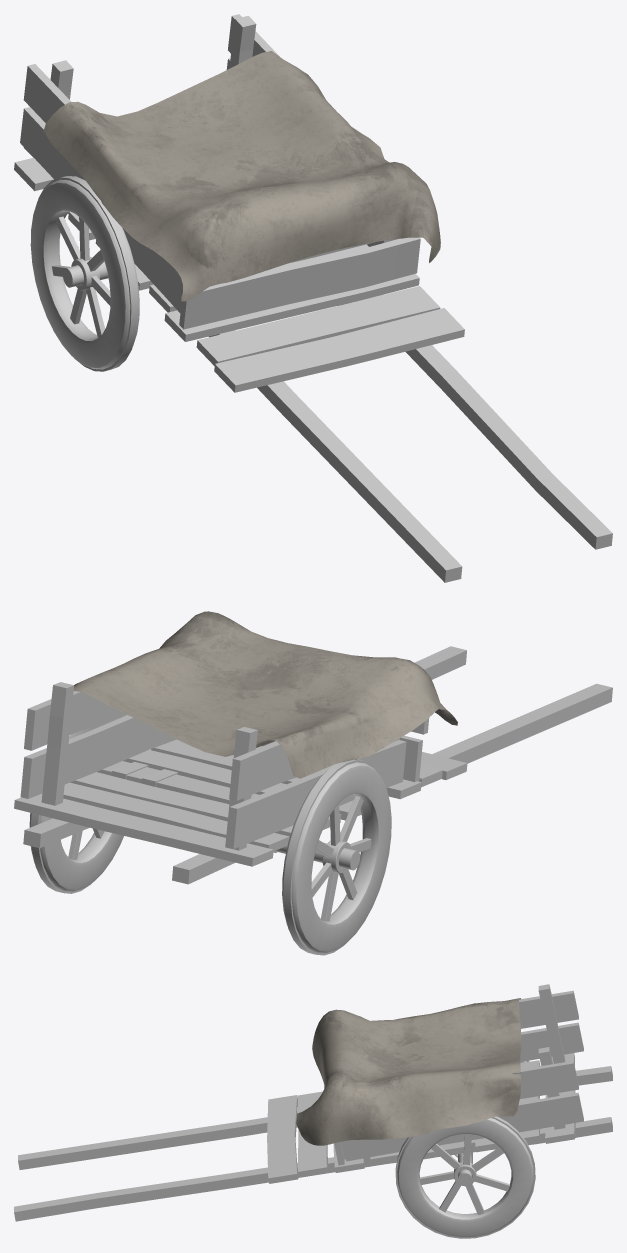
Rendered from SM_Sidecar2S.fbx.
3 views of the same model, one above another, from view 1: azimuth 30°, elevation 25°; view 2: azimuth 150°, elevation 25°; view 3: azimuth 270°, elevation 25° (orthographic). The views are drawn at different scales.
Parts seen in each view (by area): view 1: SM_Sidecar2S_LOD0; view 2: SM_Sidecar2S_LOD0; view 3: SM_Sidecar2S_LOD0.
Part boxes in pixels (x1,y1,x2,y2): SM_Sidecar2S_LOD0: [14, 14, 612, 582]; SM_Sidecar2S_LOD0: [14, 611, 612, 955]; SM_Sidecar2S_LOD0: [14, 984, 612, 1238].
Size of the model in its own units: 263 by 662 by 215.
